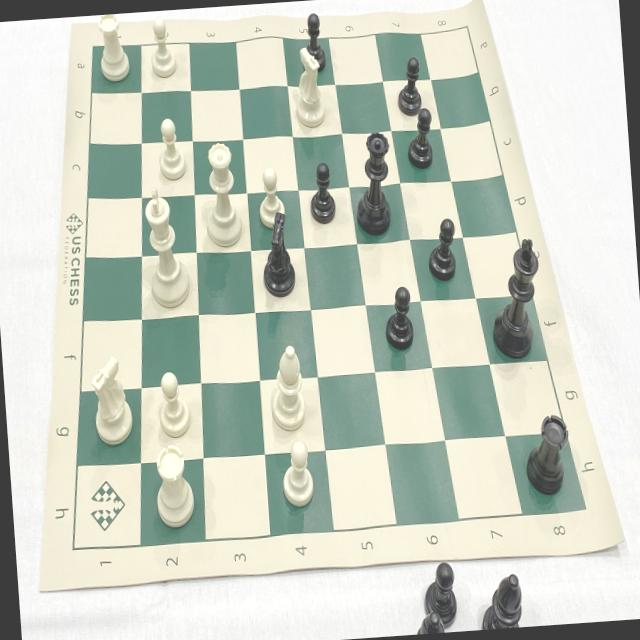black-king: (482, 228, 546, 362)
black-knight: (254, 210, 301, 300)
black-pawn: (378, 278, 420, 356), (422, 214, 460, 288), (302, 156, 340, 230), (401, 105, 438, 171), (390, 53, 426, 119), (297, 10, 330, 76)
black-queen: (347, 124, 400, 240)
black-rook: (516, 404, 574, 501)
white-bishop: (264, 343, 310, 434)
white-king: (137, 182, 194, 312)
white-knight: (84, 353, 139, 448), (289, 41, 330, 135)
white-pawn: (274, 436, 319, 513), (151, 367, 194, 443), (143, 12, 182, 82), (152, 114, 189, 184), (252, 162, 288, 231)
white-queen: (200, 134, 248, 252)
white-rook: (150, 442, 200, 532), (91, 12, 135, 86)
